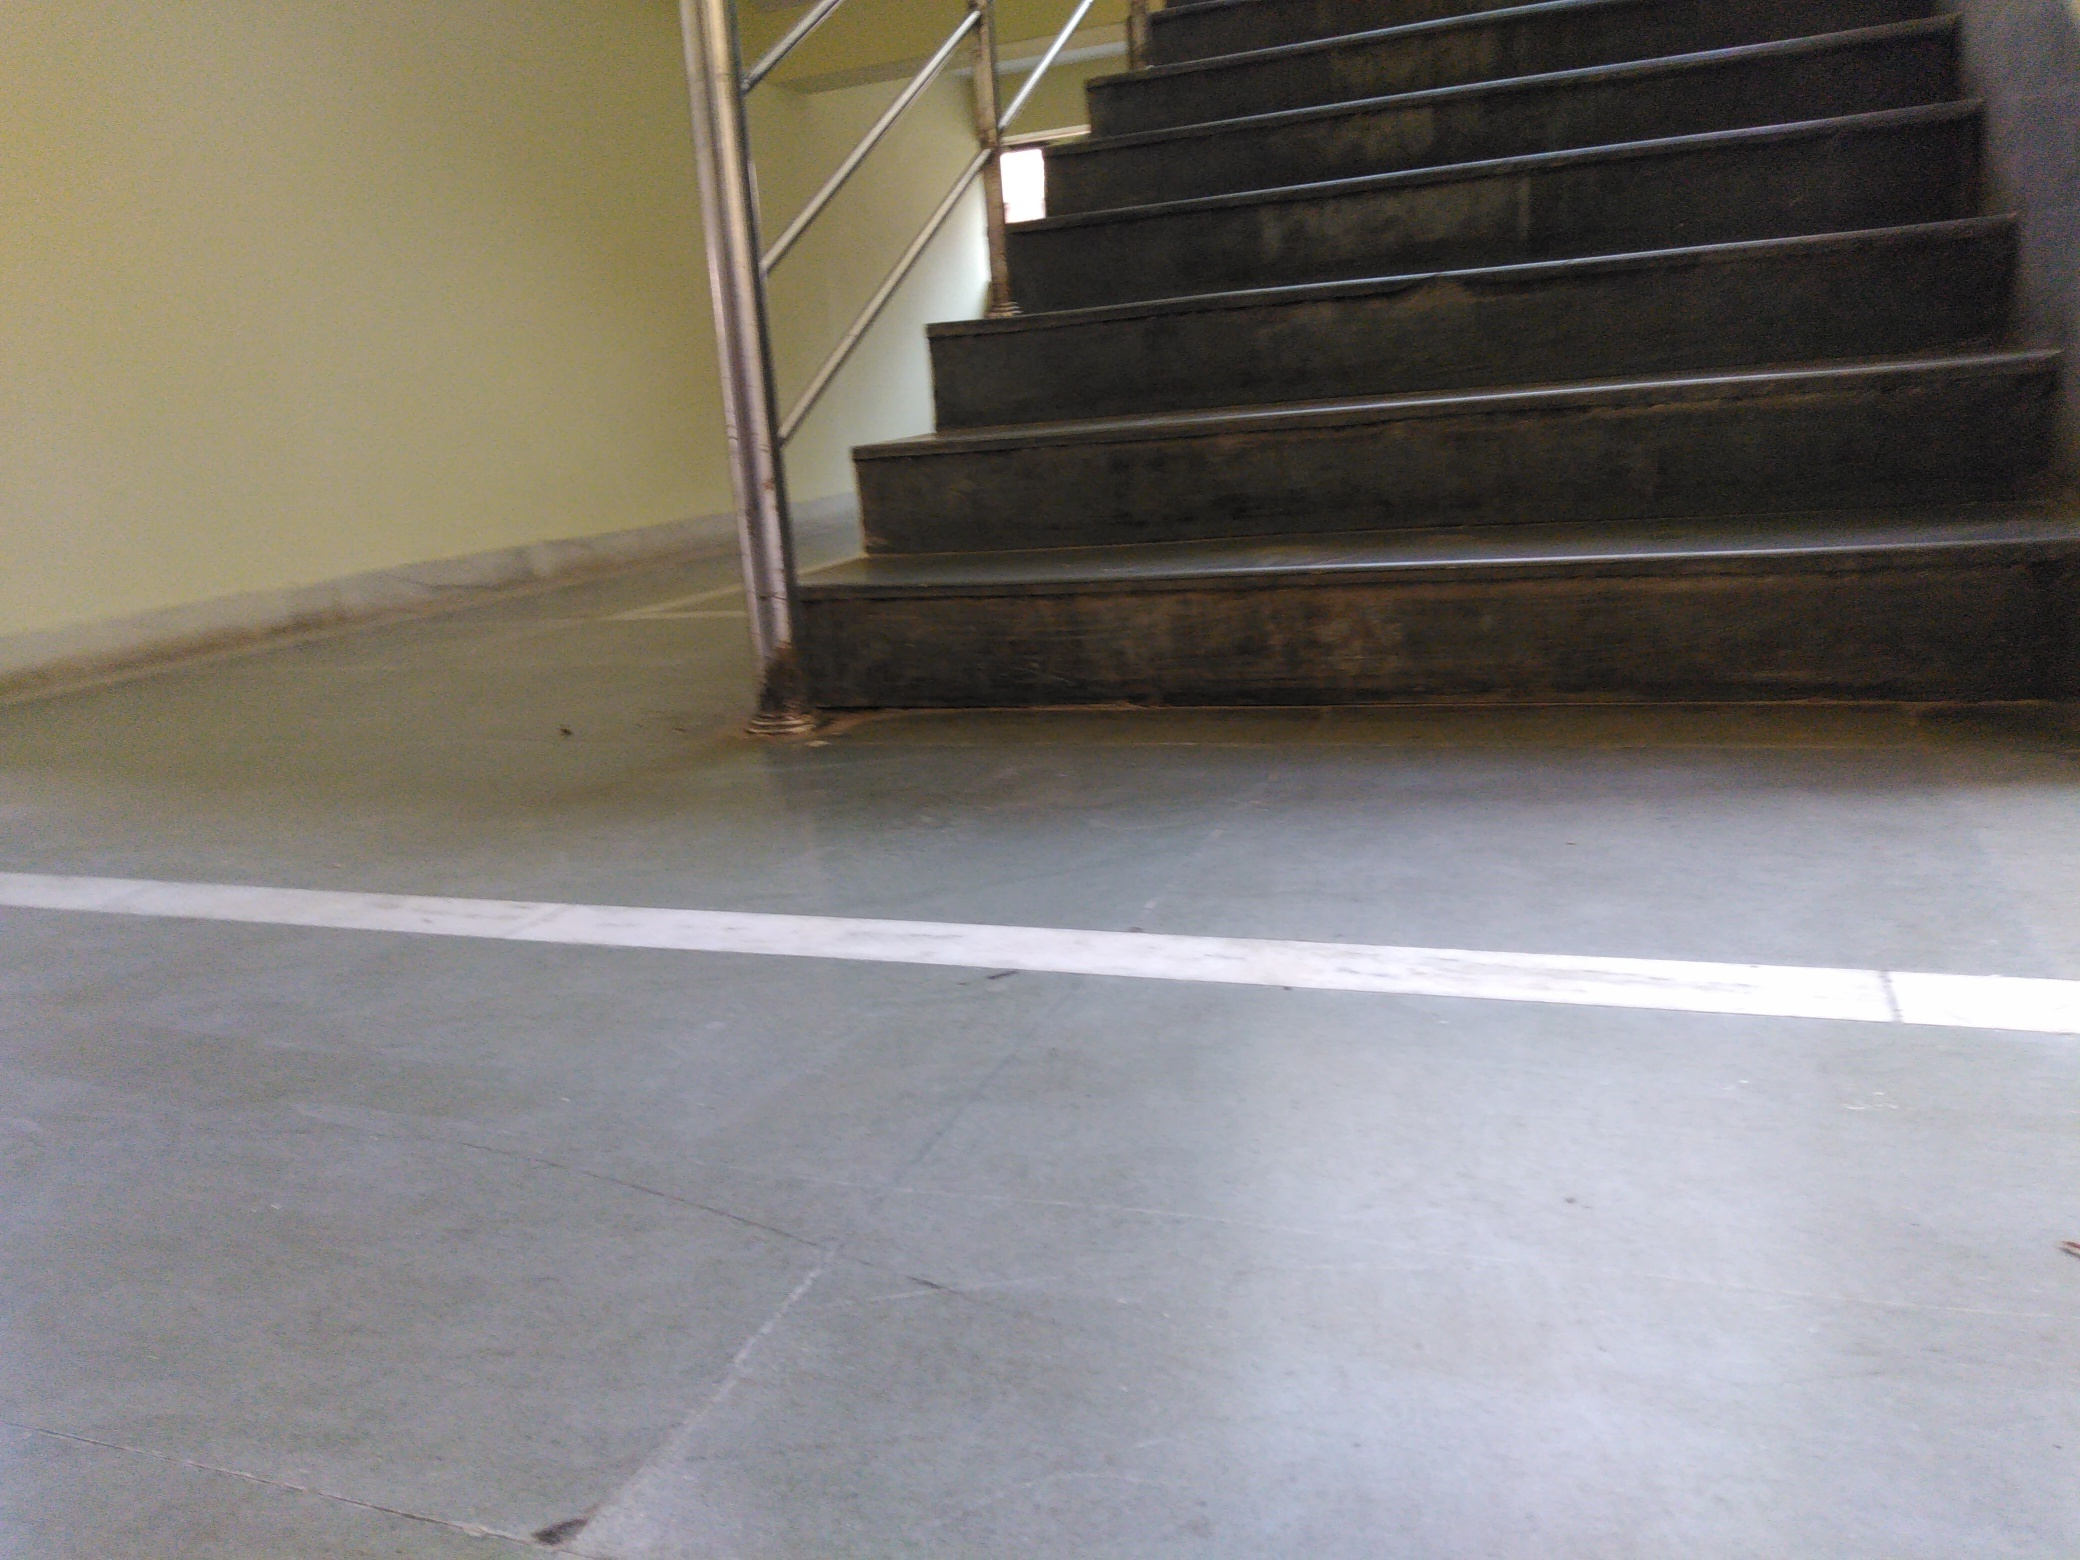stairs_up: (773, 44, 2042, 729)
